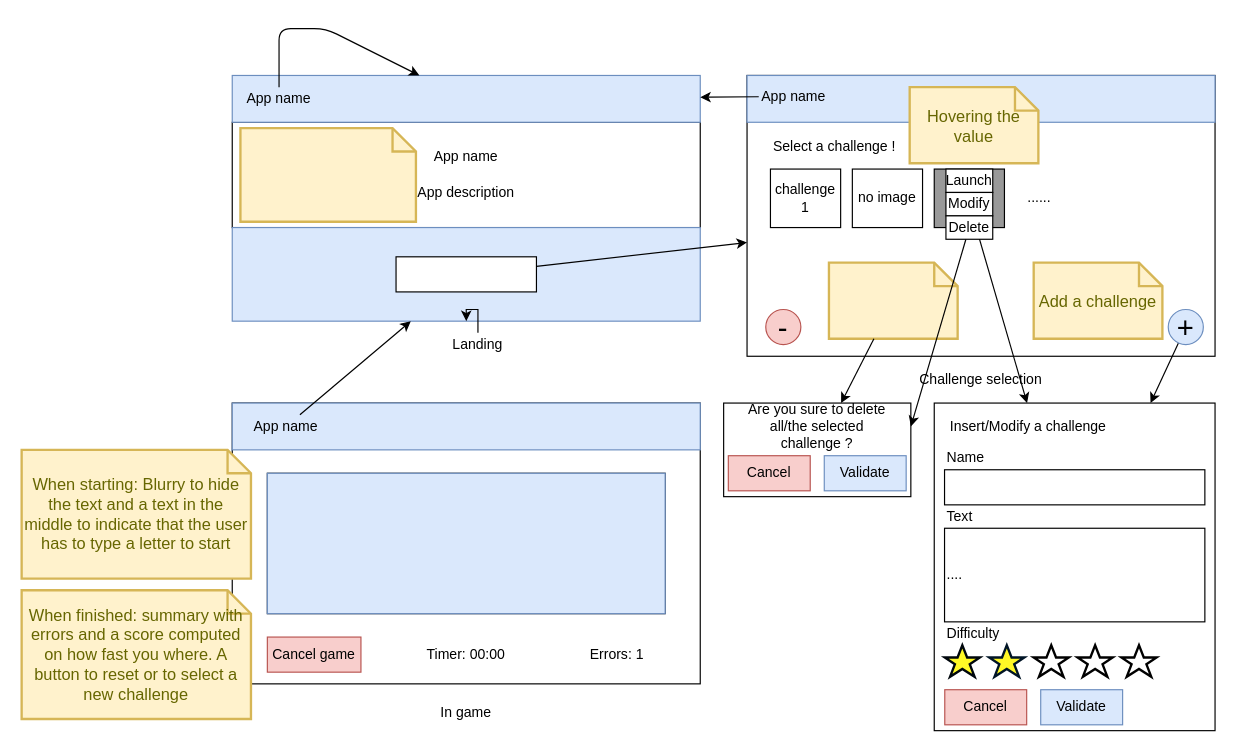
Image size: 1236x751. Some labels were removed from this diagram. The box of each missing label's shape, as (x1, y1, x2, y2) in pixels:
Blurred image of someone typing on a keyboard: (239, 126, 417, 222)
challenge 3: (933, 168, 1004, 228)
Delete everything: (827, 261, 958, 339)
Il é tait une fois....: (266, 472, 665, 614)
The challenge: (943, 469, 1205, 505)
View challenges: (395, 256, 536, 292)
